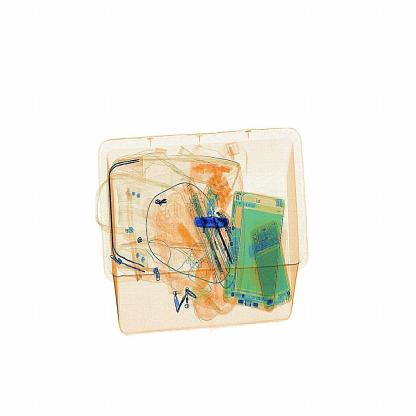knife: (187, 203, 229, 235)
